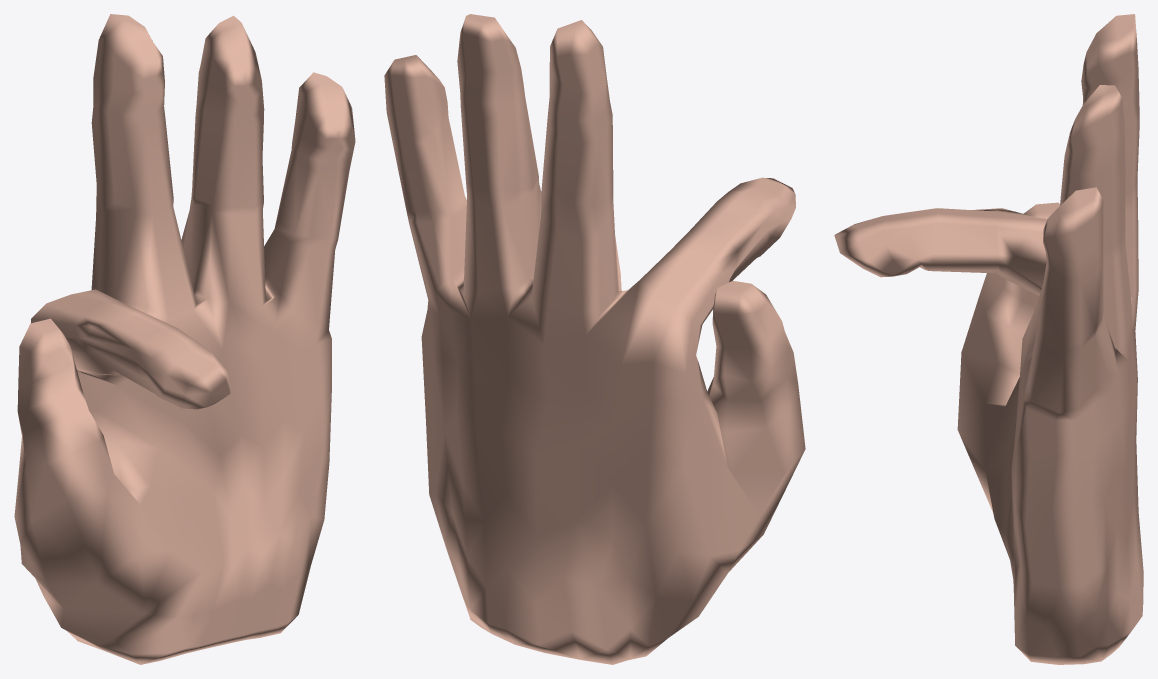
Rendered from MAO_F.obj.
The picture shows the model from 3 angles, left to right: view 1: azimuth 30°, elevation 25°; view 2: azimuth 150°, elevation 25°; view 3: azimuth 270°, elevation 25°; orthographic projection. The views are drawn at different scales.
Parts seen in each view (by area): view 1: mao_dir polySurface1; view 2: mao_dir polySurface1; view 3: mao_dir polySurface1.
Boxes of the visible parts, box(x1,y1,x2,y2) form: mao_dir polySurface1: box(14, 14, 355, 664); mao_dir polySurface1: box(384, 14, 805, 664); mao_dir polySurface1: box(834, 14, 1143, 664).
Size of the model in its own units: 150 by 243 by 115.
